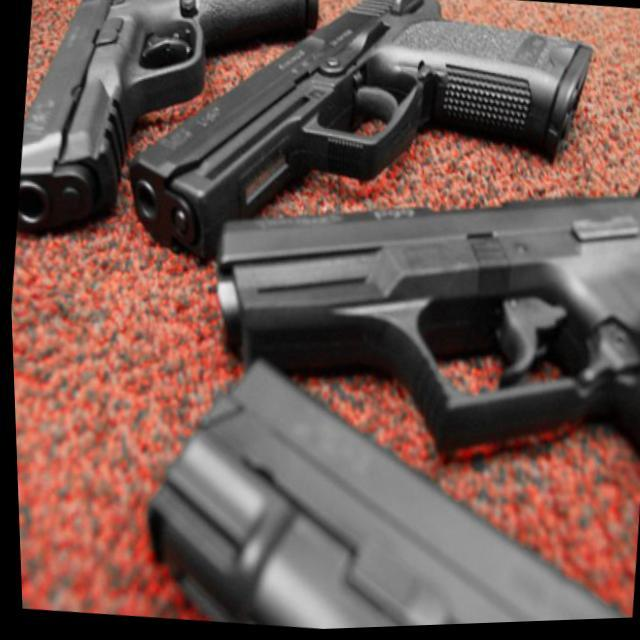weapon: (189, 140, 640, 498), (125, 336, 640, 636), (111, 0, 604, 303), (7, 0, 327, 261)
